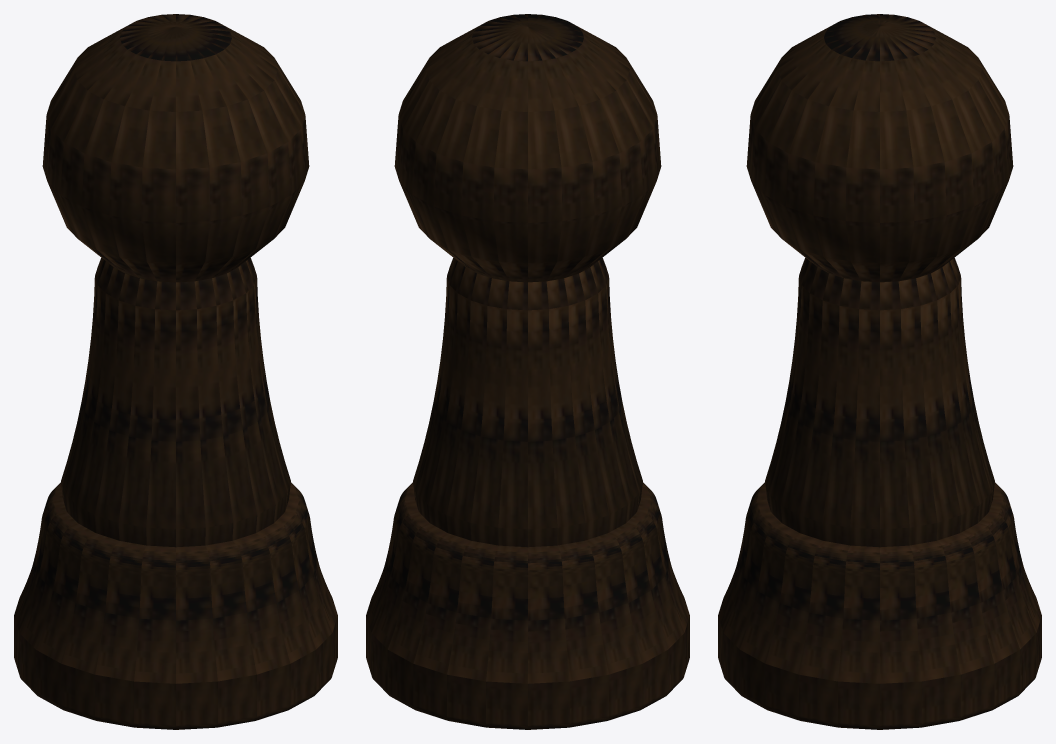
File: Pawn_b.dae
3 views of the same model, side by side, from view 1: azimuth 30°, elevation 25°; view 2: azimuth 150°, elevation 25°; view 3: azimuth 270°, elevation 25° (orthographic).
Visible parts, largest first — view 1: SketchUp; view 2: SketchUp; view 3: SketchUp.
Part boxes in pixels (left/top/right/bottom): SketchUp: left=14, top=14, right=337, bottom=729; SketchUp: left=366, top=14, right=689, bottom=729; SketchUp: left=718, top=14, right=1041, bottom=729.
Bounding box in the file's own units: 17.95 × 17.95 × 38.89.
Materials: 1 (1 with a texture image).
